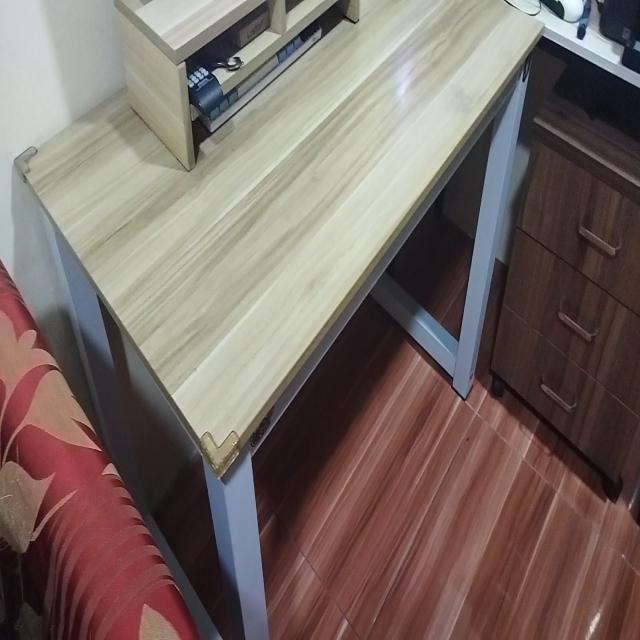table: (12, 0, 548, 640)
